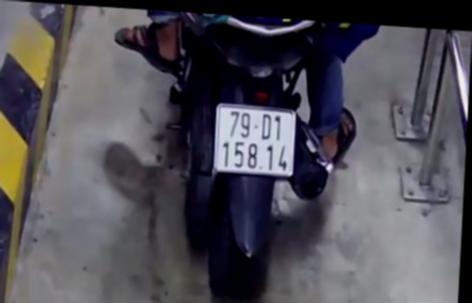License_Plate: (205, 98, 307, 188)
